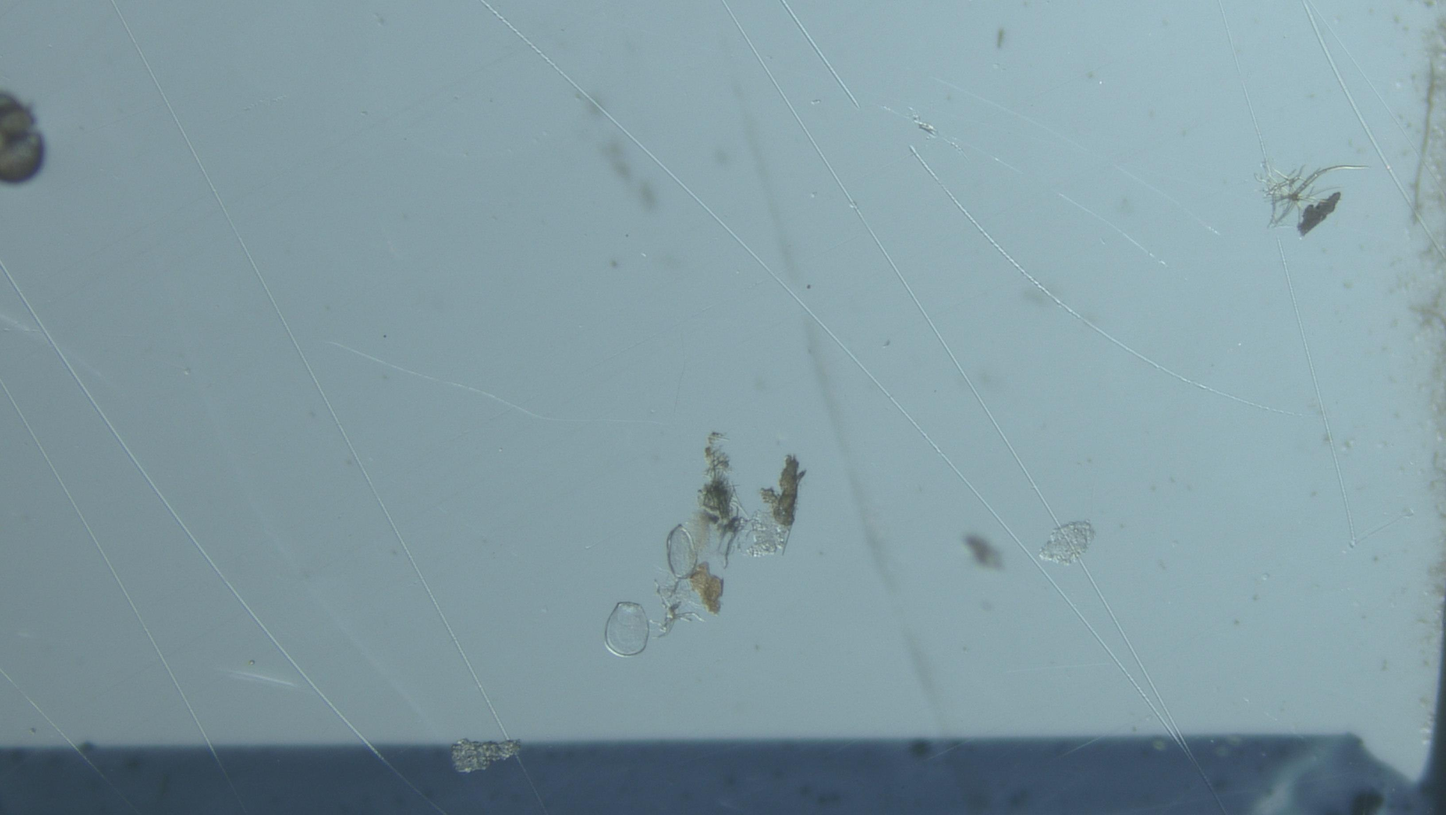dead: (605, 602, 650, 658), (666, 524, 697, 579)
